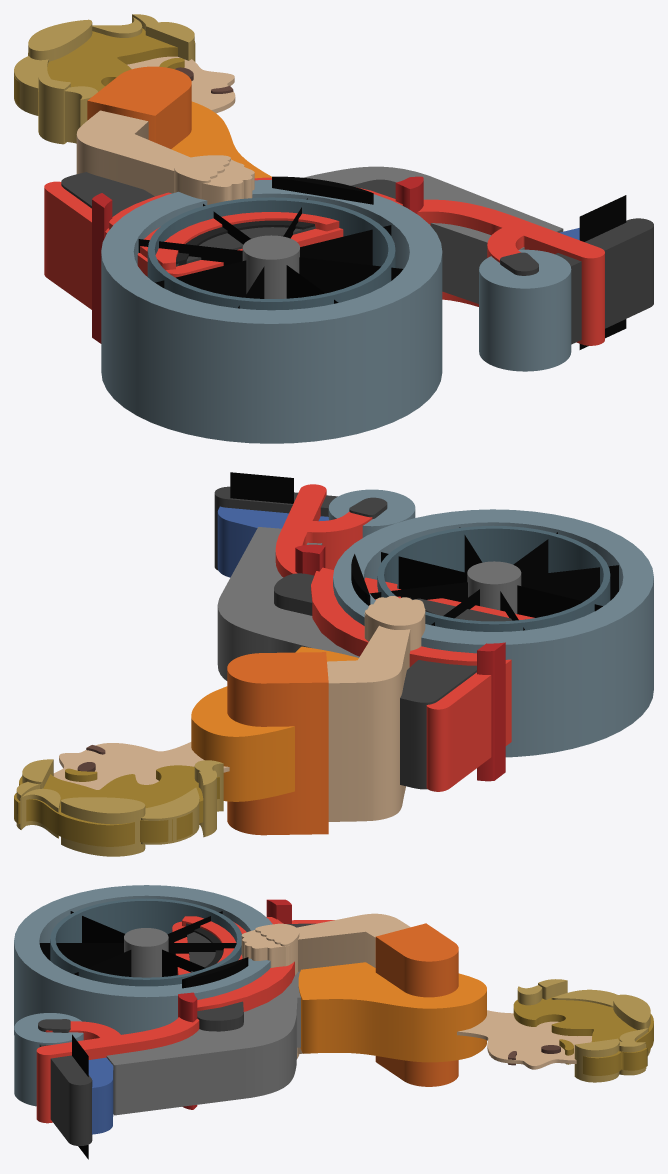
The model's file is emoji_u1f9d1_1f3fc_200d_1f9bd_200d_27a1.glb.
3 renders of one model, top to bottom at view 1: azimuth 30°, elevation 25°; view 2: azimuth 150°, elevation 25°; view 3: azimuth 270°, elevation 25°, orthographic. The views are drawn at different scales.
Visible parts, largest first — view 1: emoji_u1f9d1_1f3fc_200d_1f9bd_200d_27a1; view 2: emoji_u1f9d1_1f3fc_200d_1f9bd_200d_27a1; view 3: emoji_u1f9d1_1f3fc_200d_1f9bd_200d_27a1.
Boxes of the visible parts, left/top/right/bottom form: emoji_u1f9d1_1f3fc_200d_1f9bd_200d_27a1: left=14, top=14, right=653, bottom=443; emoji_u1f9d1_1f3fc_200d_1f9bd_200d_27a1: left=14, top=472, right=653, bottom=856; emoji_u1f9d1_1f3fc_200d_1f9bd_200d_27a1: left=14, top=885, right=653, bottom=1159.
Size of the model in its own units: 0.022 by 0.007 by 0.0324.
